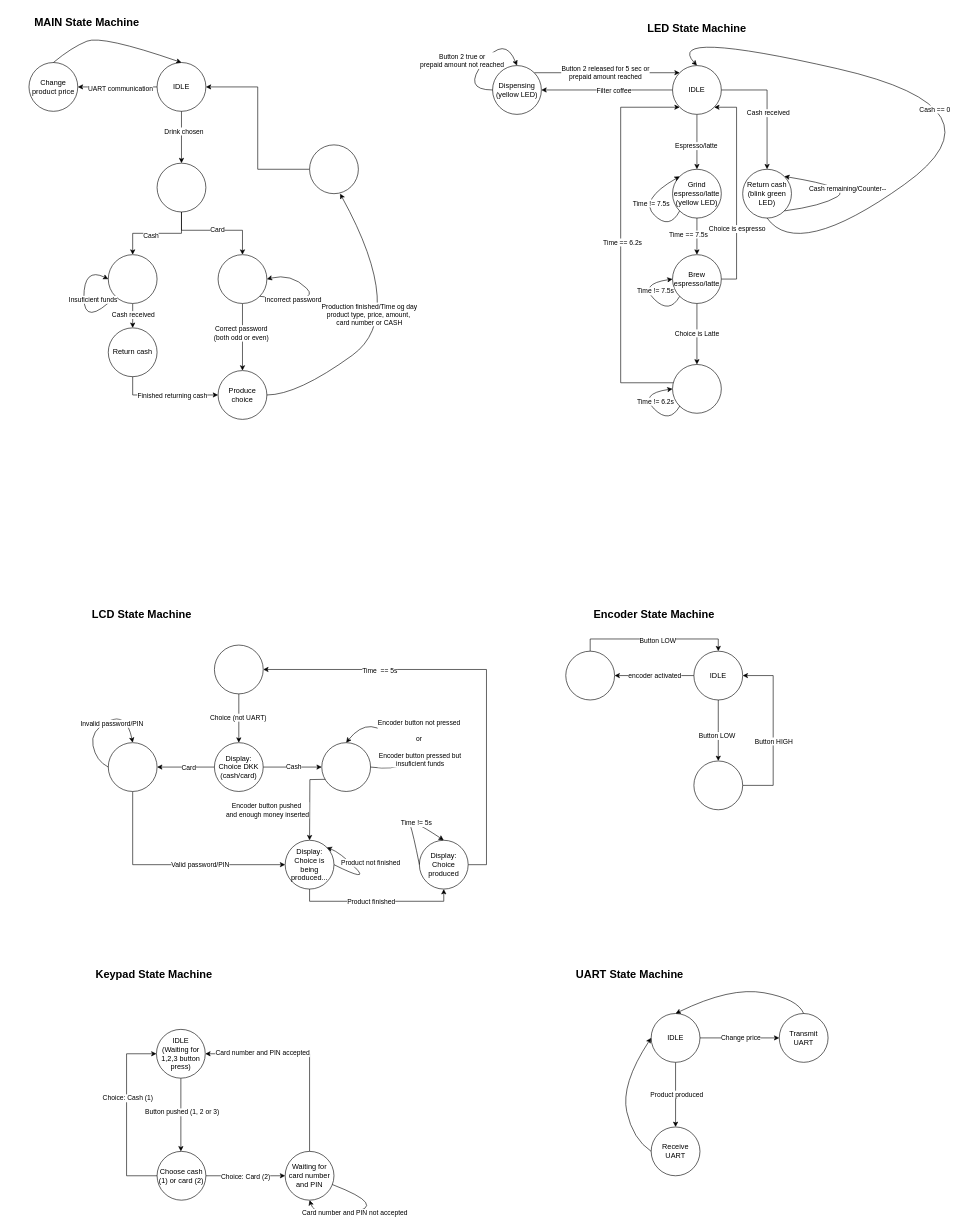
Some shapes in this 961 by 1227 pixel diagram are drawn without their labels. Each missing label, with the centre of its shape:
Display: Enter card number and PIN: (x=132, y=766)
Display: Inserted amount and choice DKK: (x=346, y=766)
Froth milk (green LED): (x=696, y=388)
IDLE (show all choices): (x=238, y=669)
Log product choice: (x=333, y=169)
Payment: (x=181, y=187)
Receiving cash: (x=132, y=278)
Send final amount: (x=718, y=785)
Send to LCD: (x=590, y=675)
Wait for password: (x=242, y=278)
